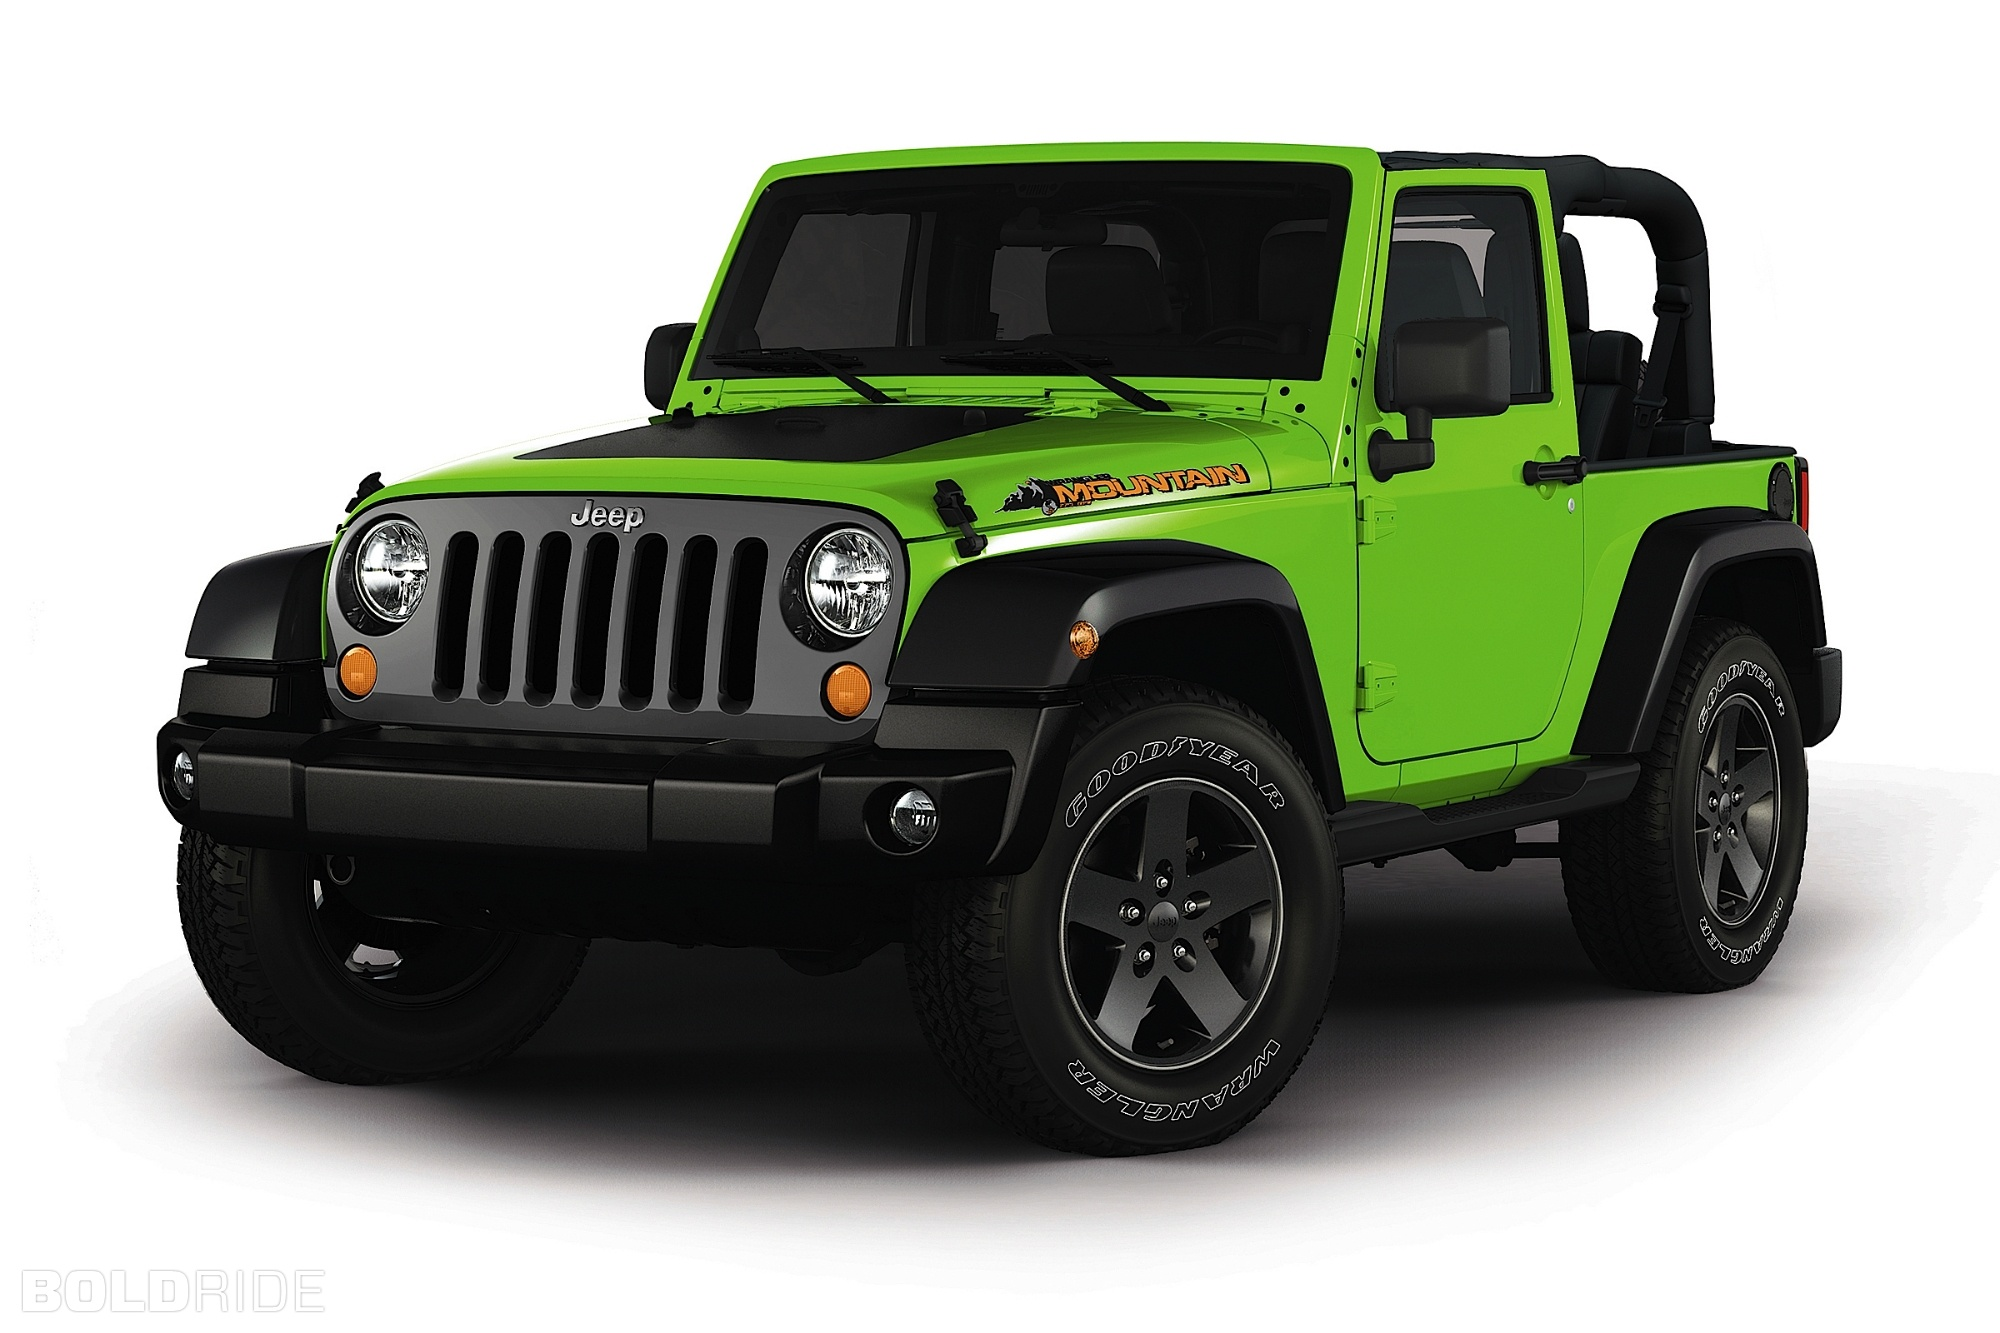jeep: (190, 64, 1857, 1147)
